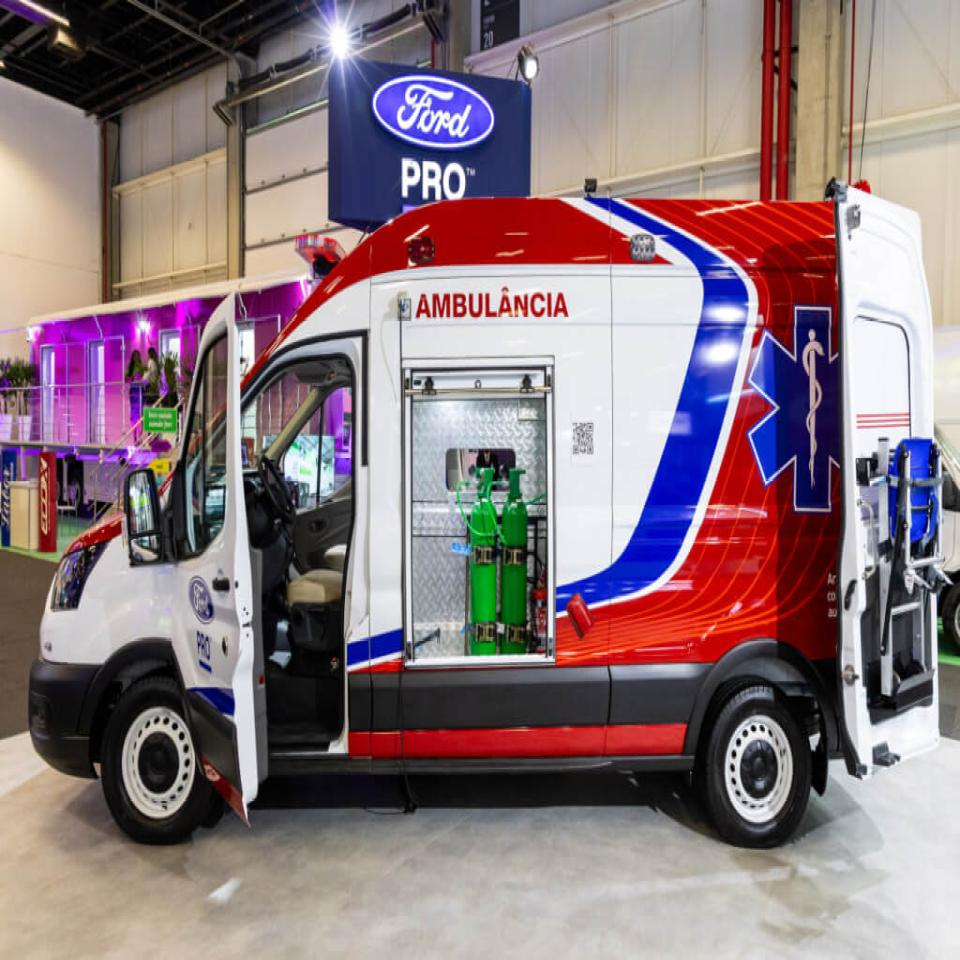bombeiro: (29, 170, 945, 857)
